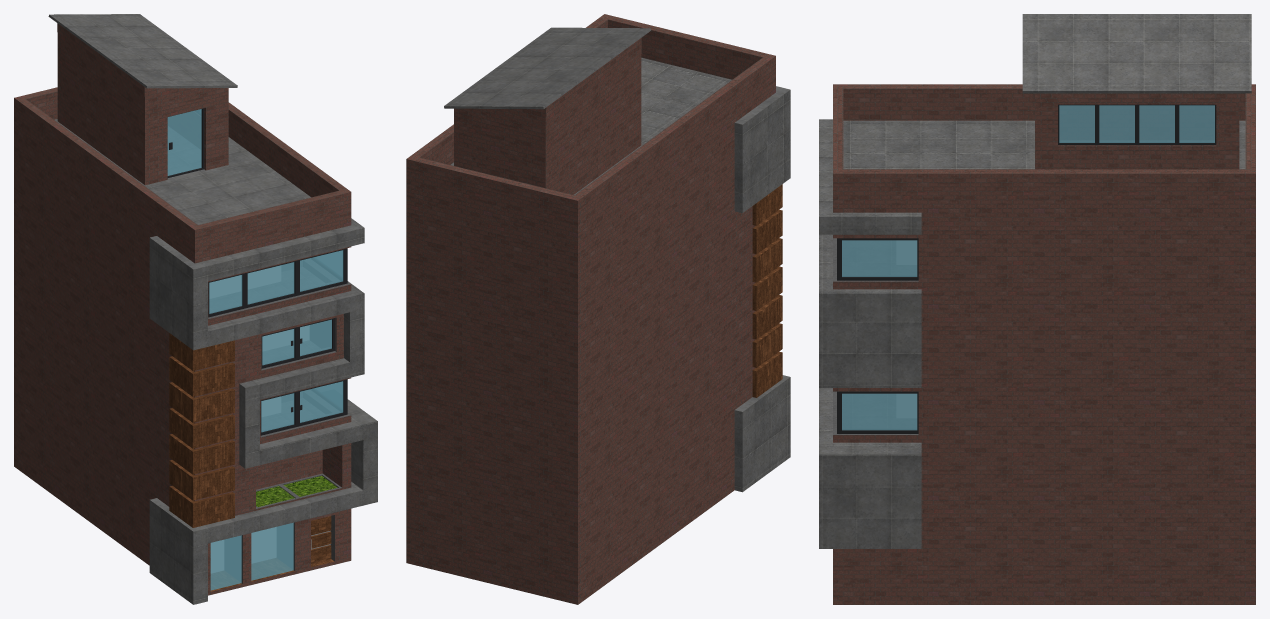
Rendered from Building_Small_DownTown10.obj.
3 views of the same model, side by side, from view 1: azimuth 30°, elevation 25°; view 2: azimuth 150°, elevation 25°; view 3: azimuth 270°, elevation 25° (orthographic). The views are drawn at different scales.
Visible parts, largest first — view 1: Building_Small_DownTown10_Building_Small_DownTown10_Mesh.001_Bro, Building_Small_DownTown10_Building_Small_DownTown10_Mesh.001_Cem, Building_Small_DownTown10_Building_Small_DownTown10_Mesh.001_Gla, Building_Small_DownTown10_Building_Small_DownTown10_Mesh.001_Woo, Building_Small_DownTown10_Building_Small_DownTown10_Mesh.001_Met, Building_Small_DownTown10_Building_Small_DownTown10_Mesh.001_Epo, Building_Small_DownTown10_Building_Small_DownTown10_Mesh.001_Gra; view 2: Building_Small_DownTown10_Building_Small_DownTown10_Mesh.001_Bro, Building_Small_DownTown10_Building_Small_DownTown10_Mesh.001_Cem, Building_Small_DownTown10_Building_Small_DownTown10_Mesh.001_Woo; view 3: Building_Small_DownTown10_Building_Small_DownTown10_Mesh.001_Bro, Building_Small_DownTown10_Building_Small_DownTown10_Mesh.001_Cem, Building_Small_DownTown10_Building_Small_DownTown10_Mesh.001_Gla, Building_Small_DownTown10_Building_Small_DownTown10_Mesh.001_Met, Building_Small_DownTown10_Building_Small_DownTown10_Mesh.001_Epo.
Boxes of the visible parts, bbox=[...] form: Building_Small_DownTown10_Building_Small_DownTown10_Mesh.001_Bro: bbox=[14, 23, 351, 595]; Building_Small_DownTown10_Building_Small_DownTown10_Mesh.001_Cem: bbox=[48, 14, 377, 604]; Building_Small_DownTown10_Building_Small_DownTown10_Mesh.001_Gla: bbox=[167, 109, 343, 590]; Building_Small_DownTown10_Building_Small_DownTown10_Mesh.001_Woo: bbox=[169, 333, 334, 591]; Building_Small_DownTown10_Building_Small_DownTown10_Mesh.001_Met: bbox=[167, 108, 347, 549]; Building_Small_DownTown10_Building_Small_DownTown10_Mesh.001_Epo: bbox=[210, 266, 308, 572]; Building_Small_DownTown10_Building_Small_DownTown10_Mesh.001_Gra: bbox=[256, 476, 337, 506]; Building_Small_DownTown10_Building_Small_DownTown10_Mesh.001_Bro: bbox=[406, 14, 775, 604]; Building_Small_DownTown10_Building_Small_DownTown10_Mesh.001_Cem: bbox=[444, 27, 790, 492]; Building_Small_DownTown10_Building_Small_DownTown10_Mesh.001_Woo: bbox=[752, 184, 782, 397]; Building_Small_DownTown10_Building_Small_DownTown10_Mesh.001_Bro: bbox=[833, 84, 1255, 604]; Building_Small_DownTown10_Building_Small_DownTown10_Mesh.001_Cem: bbox=[819, 14, 1251, 548]; Building_Small_DownTown10_Building_Small_DownTown10_Mesh.001_Gla: bbox=[842, 105, 1214, 430]; Building_Small_DownTown10_Building_Small_DownTown10_Mesh.001_Met: bbox=[837, 104, 1216, 433]; Building_Small_DownTown10_Building_Small_DownTown10_Mesh.001_Epo: bbox=[897, 241, 916, 417].
Size of the model in its own units: 7.07 by 16.3 by 12.39.
9 materials, 8 textured.
